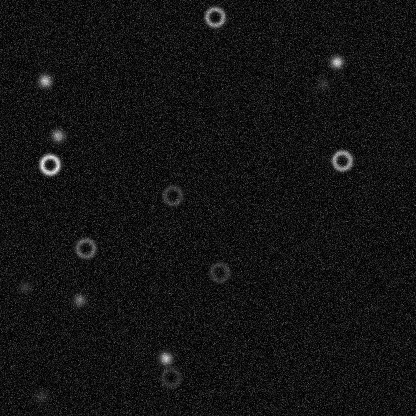Ring: (160, 183, 184, 207), (158, 365, 182, 389), (330, 148, 354, 172), (207, 260, 231, 284), (37, 152, 61, 176), (202, 4, 226, 28), (73, 236, 97, 260)
Spot: (33, 388, 49, 404), (157, 350, 173, 366), (16, 278, 32, 294), (36, 72, 52, 88), (315, 75, 331, 91), (71, 291, 87, 307), (49, 127, 65, 143), (328, 53, 344, 69)
